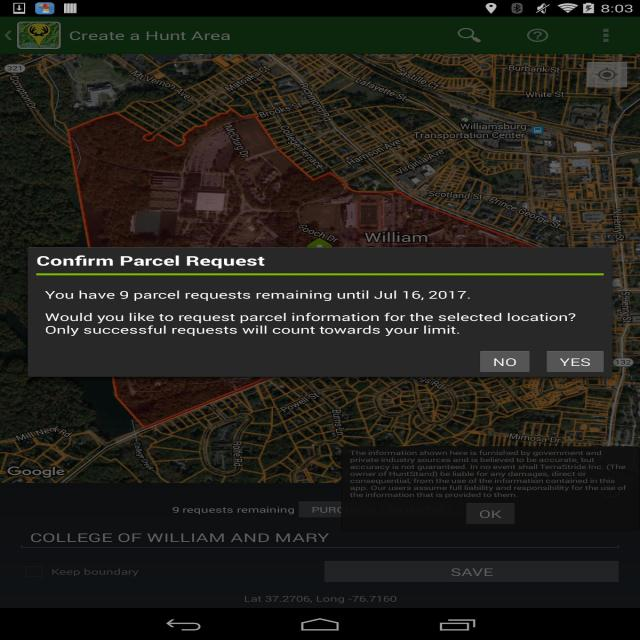button: (323, 559, 618, 581), (548, 351, 602, 373), (468, 504, 516, 526), (454, 23, 492, 48), (590, 64, 628, 88), (482, 351, 526, 370), (525, 24, 556, 48), (596, 23, 622, 48), (0, 22, 17, 52)
field: (19, 524, 617, 548)
heading: (36, 253, 266, 270), (68, 28, 233, 43)
image: (4, 56, 640, 480), (18, 21, 61, 50)
text: (43, 287, 580, 336), (345, 448, 634, 501), (32, 528, 333, 546)
